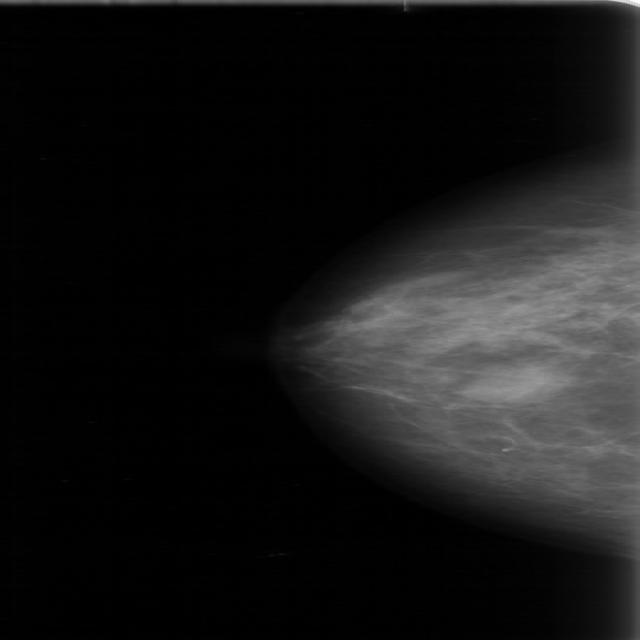tumour: (455, 362, 571, 401)
